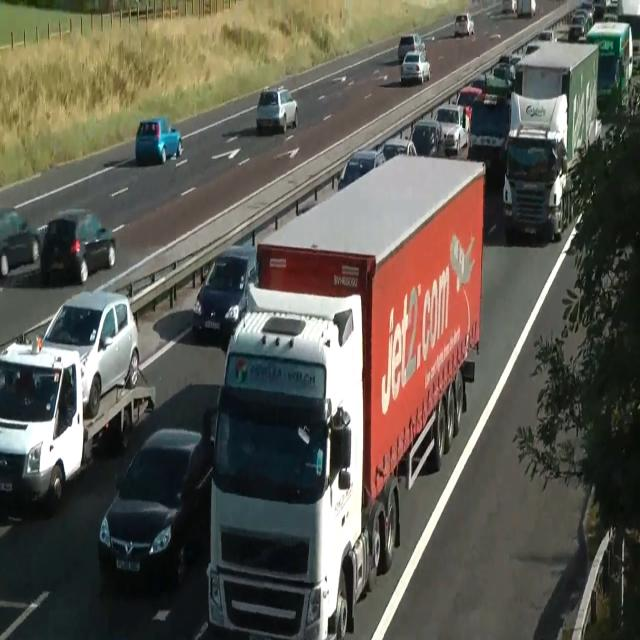bus: (98, 426, 212, 588), (191, 244, 257, 340), (0, 206, 39, 276), (135, 116, 183, 164), (256, 85, 298, 134), (337, 149, 377, 191), (373, 137, 417, 169), (400, 50, 430, 84), (398, 33, 426, 62), (455, 86, 483, 110), (569, 9, 591, 38), (454, 13, 474, 36)
jeep: (39, 288, 140, 418), (502, 126, 573, 241), (37, 207, 115, 285), (466, 92, 510, 166), (432, 102, 470, 156), (409, 118, 445, 158)
minibus: (206, 154, 486, 638), (0, 333, 156, 512), (502, 40, 602, 241), (585, 20, 633, 106)
